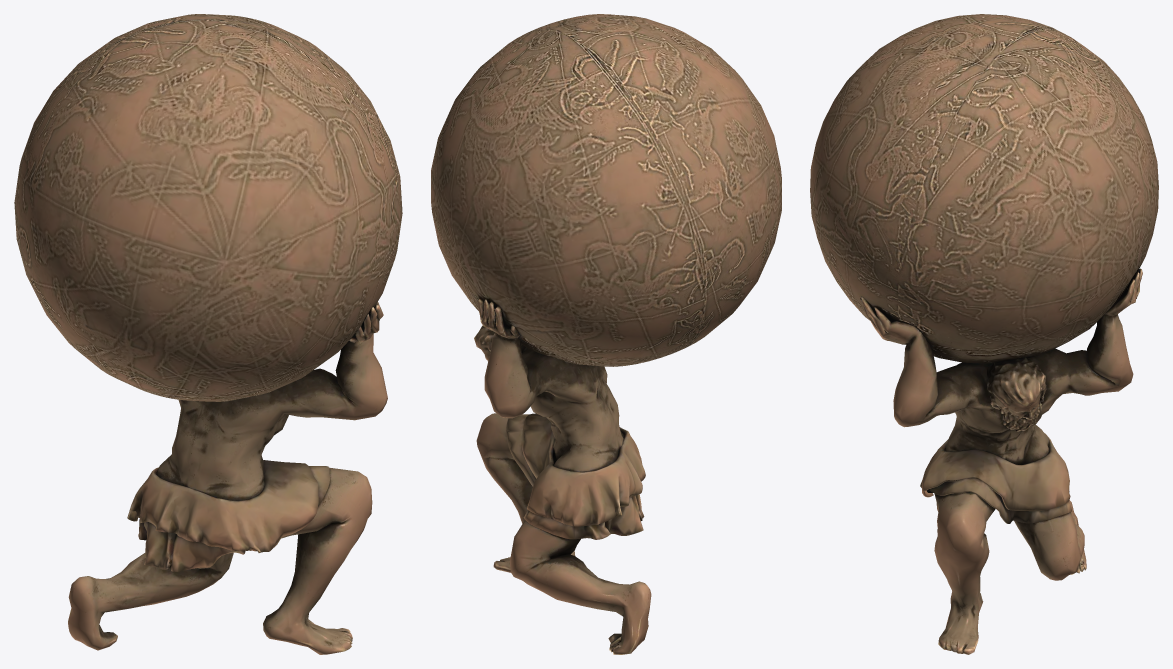
The model's file is atlas.glb.
3 renders of one model, left to right at view 1: azimuth 30°, elevation 25°; view 2: azimuth 150°, elevation 25°; view 3: azimuth 270°, elevation 25°, orthographic. The views are drawn at different scales.
Parts seen in each view (by area): view 1: Atlas; view 2: Atlas; view 3: Atlas.
Boxes of the visible parts, x1,y1,x2,y2 form: Atlas: [14, 14, 402, 654]; Atlas: [431, 14, 781, 654]; Atlas: [810, 14, 1158, 654].
Bounding box in the file's own units: 1.22 × 2.2 × 1.22.
Materials: 2 (2 with a texture image).
